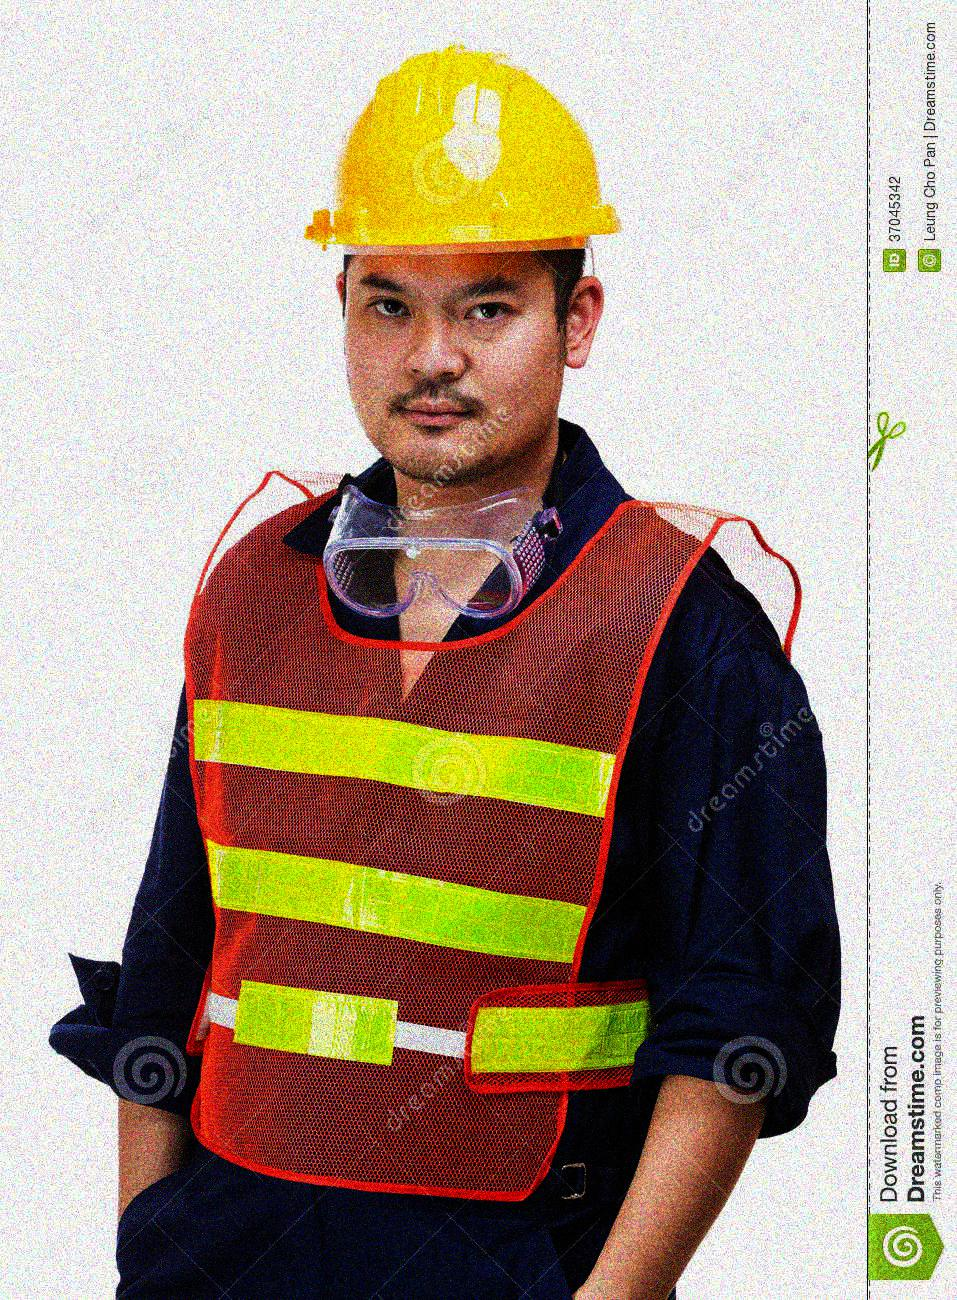helmet: (301, 47, 622, 483)
